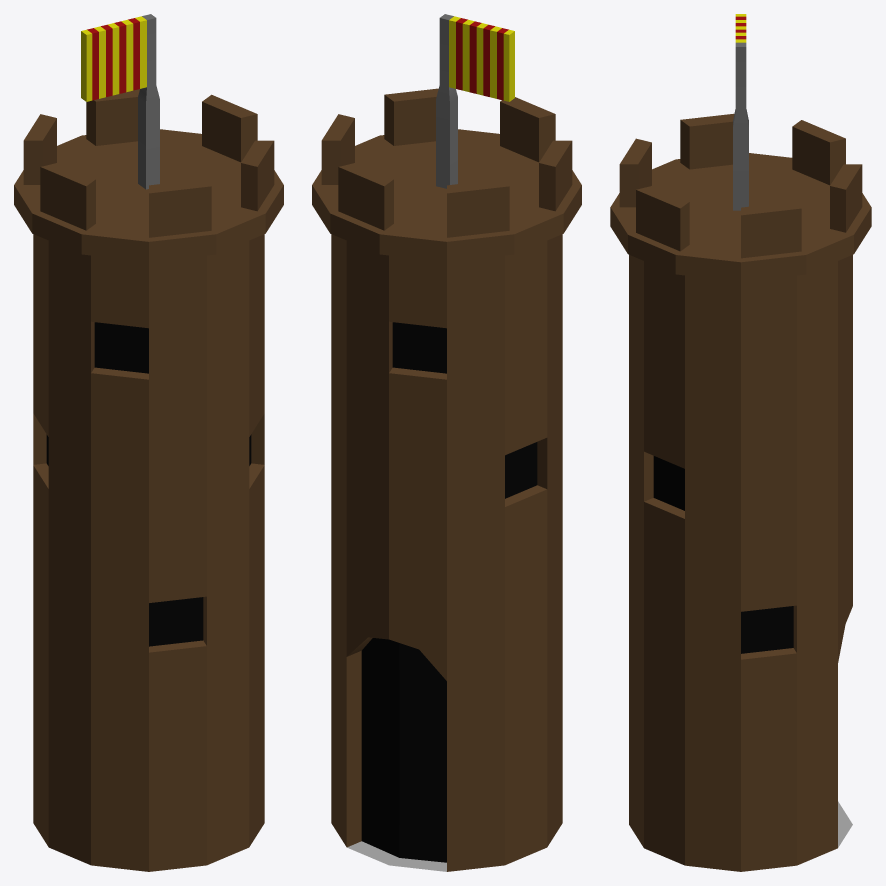
The model's file is torre_palau2.fbx.
The picture shows the model from 3 angles, left to right: view 1: azimuth 30°, elevation 25°; view 2: azimuth 150°, elevation 25°; view 3: azimuth 270°, elevation 25°; orthographic projection. The views are drawn at different scales.
Parts seen in each view (by area): view 1: pCylinder1, pCube1; view 2: pCylinder1, pCube1; view 3: pCylinder1, pCube1.
Part boxes in pixels (x1,y1,x2,y2): pCylinder1: (14, 89, 283, 871); pCube1: (81, 14, 159, 189); pCylinder1: (312, 88, 581, 871); pCube1: (436, 14, 514, 188); pCylinder1: (610, 113, 871, 871); pCube1: (733, 14, 748, 210).
Size of the model in its own units: 11.67 by 38.49 by 11.67.
